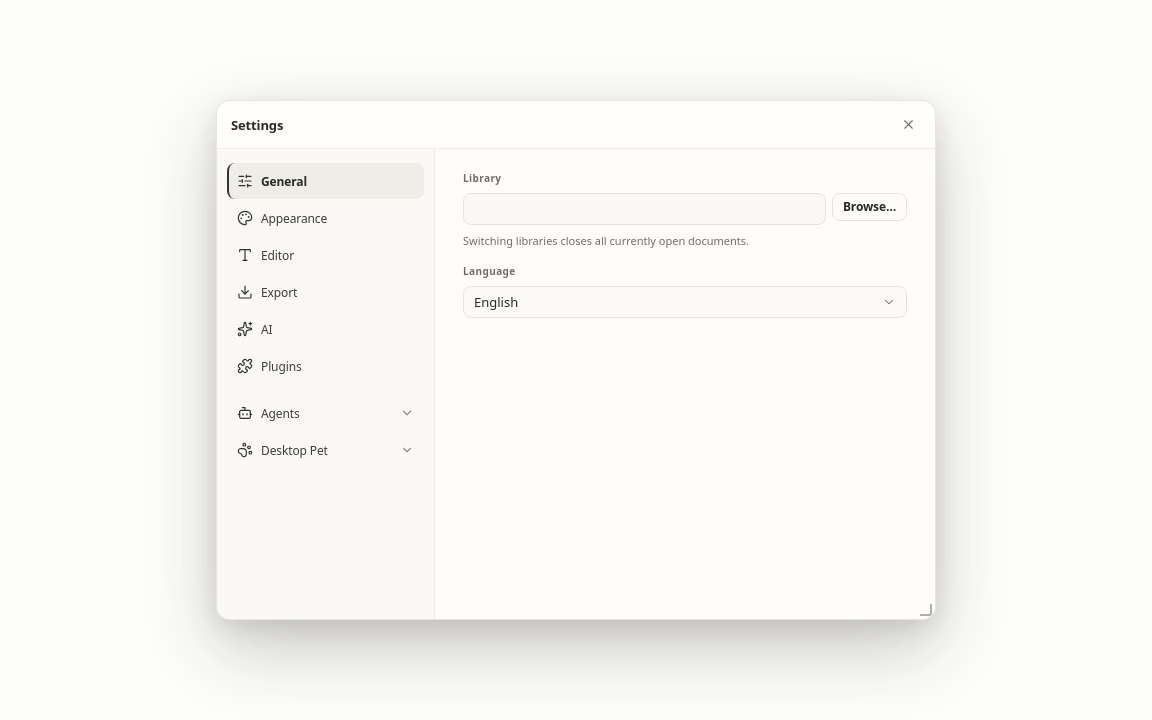
Test: the pet’s settings are reachable from the dialog › states the absence rather than drawing controls where there is no host
The image size is (1152, 720).
Click the tab with class "nav-row" showing "Desktop Pet".
click(326, 450)  # box [227,432,424,468]
Wait 20 ms
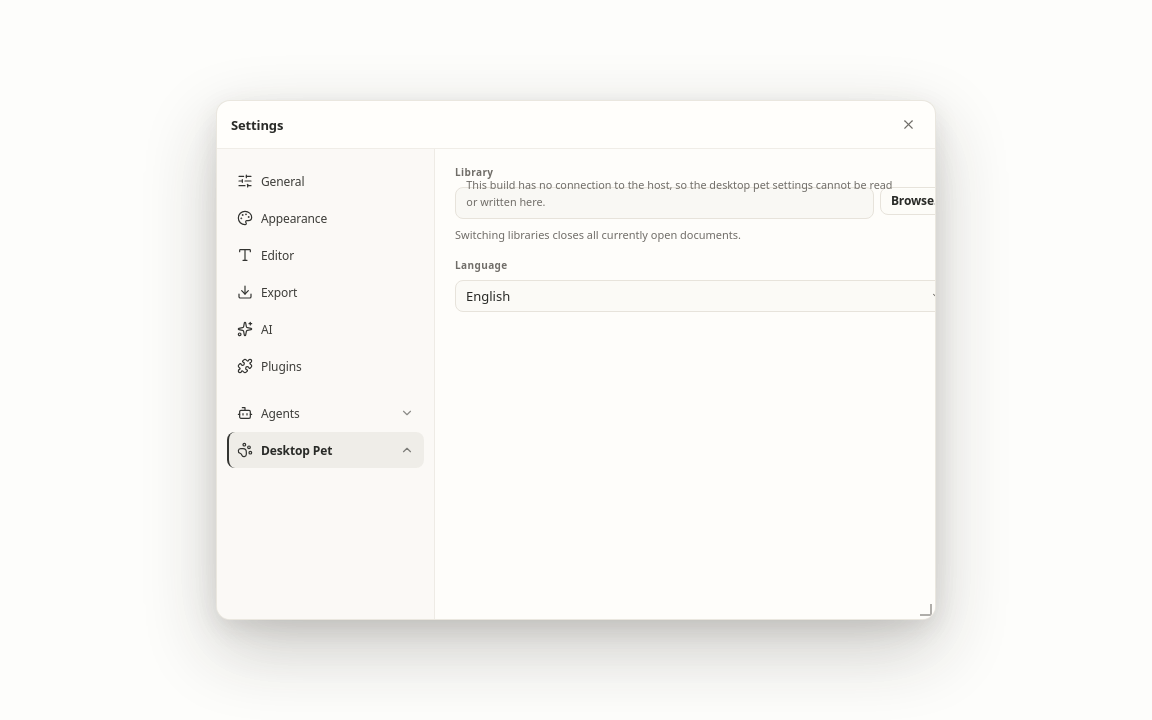
Expected: the text "no connection" is shown, [466,177,892,208]
